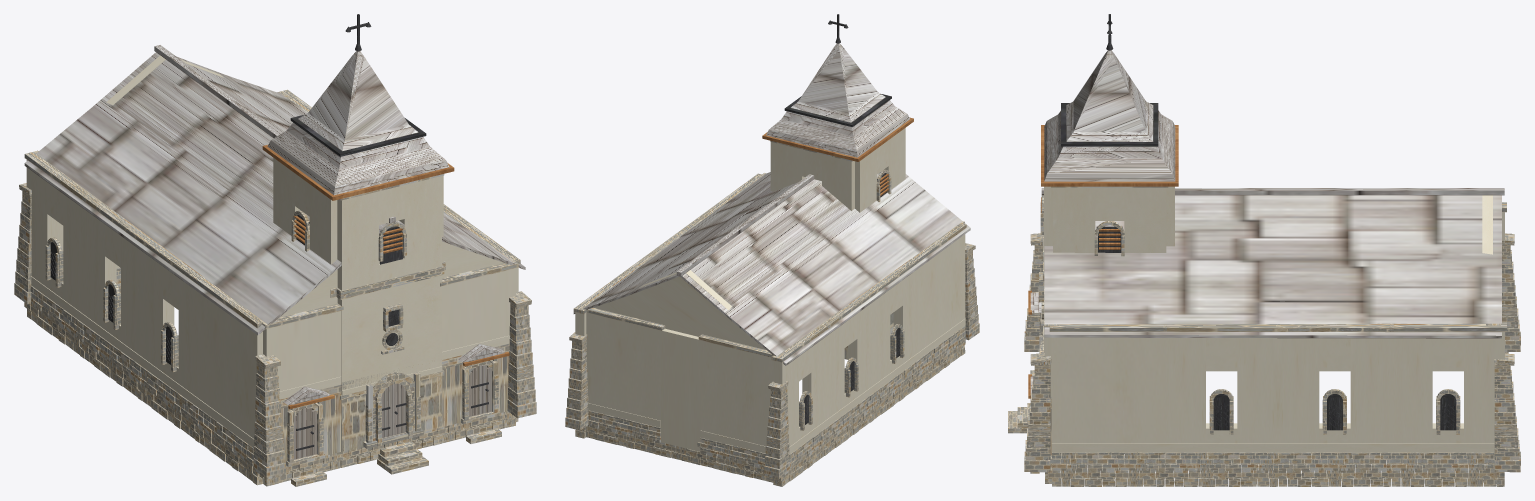
Rendered from tier1_church_delnice_v1.glb.
3 renders of one model, left to right at view 1: azimuth 30°, elevation 25°; view 2: azimuth 150°, elevation 25°; view 3: azimuth 270°, elevation 25°, orthographic. The views are drawn at different scales.
Visible parts, largest first — view 1: TC_Nave_Roof_Left, TC_Delnice_Flared_Spire, TC_Tower_Shaft_Front, TC_Tower_Belfry_Front, TC_Nave_Left_Bay_1, TC_Front_Right_Portal_Bay, TC_Nave_Left_Bay_3, TC_Nave_Left_Bay_2, TC_Nave_Left_Bay_4, TC_Front_Left_Portal_Bay, TC_Nave_Roof_Right, TC_Tower_Belfry_Left (+28 smaller); view 2: TC_Nave_Roof_Left, TC_Delnice_Flared_Spire, TC_Rear_Right_Bay, TC_Rear_Left_Bay, TC_Nave_Left_Bay_1, TC_Nave_Roof_Right, TC_Rear_Gable, TC_Nave_Left_Bay_2, TC_Nave_Left_Bay_3, TC_Nave_Left_Bay_4, TC_Rear_Centre_Infill, TC_Tower_Belfry_Rear (+16 smaller); view 3: TC_Nave_Roof_Right, TC_Nave_Right_Bay_1, TC_Nave_Right_Bay_3, TC_Nave_Right_Bay_2, TC_Nave_Right_Bay_4, TC_Delnice_Flared_Spire, TC_Tower_Belfry_Right, TC_FrontRight_Stone_Pilaster, TC_Nave_Ridge, TC_RearRight_Stone_Pilaster, TC_Foundation_Right_4, TC_Foundation_Right_1 (+12 smaller).
Boxes of the visible parts, left/top/right/bottom form: TC_Nave_Roof_Left: left=24, top=52, right=388, bottom=335; TC_Delnice_Flared_Spire: left=262, top=36, right=454, bottom=200; TC_Tower_Shaft_Front: left=336, top=270, right=444, bottom=400; TC_Tower_Belfry_Front: left=336, top=174, right=444, bottom=295; TC_Nave_Left_Bay_1: left=197, top=278, right=264, bottom=466; TC_Front_Right_Portal_Bay: left=440, top=261, right=518, bottom=427; TC_Nave_Left_Bay_3: left=82, top=194, right=147, bottom=384; TC_Nave_Left_Bay_2: left=140, top=236, right=205, bottom=426; TC_Nave_Left_Bay_4: left=24, top=150, right=90, bottom=341; TC_Front_Left_Portal_Bay: left=262, top=303, right=343, bottom=463; TC_Nave_Roof_Right: left=177, top=57, right=525, bottom=269; TC_Tower_Belfry_Left: left=273, top=158, right=337, bottom=293; TC_Nave_Roof_Left: left=680, top=173, right=970, bottom=365; TC_Delnice_Flared_Spire: left=762, top=31, right=913, bottom=161; TC_Rear_Right_Bay: left=586, top=308, right=665, bottom=442; TC_Rear_Left_Bay: left=697, top=334, right=785, bottom=467; TC_Nave_Left_Bay_1: left=913, top=223, right=966, bottom=372; TC_Nave_Roof_Right: left=573, top=172, right=797, bottom=313; TC_Rear_Gable: left=593, top=270, right=765, bottom=349; TC_Nave_Left_Bay_2: left=869, top=257, right=920, bottom=406; TC_Nave_Left_Bay_3: left=823, top=289, right=874, bottom=439; TC_Nave_Left_Bay_4: left=771, top=323, right=828, bottom=468; TC_Rear_Centre_Infill: left=661, top=328, right=700, bottom=451; TC_Tower_Belfry_Rear: left=770, top=140, right=854, bottom=210; TC_Nave_Roof_Right: left=1044, top=195, right=1501, bottom=338; TC_Nave_Right_Bay_1: left=1049, top=324, right=1166, bottom=470; TC_Nave_Right_Bay_3: left=1275, top=323, right=1393, bottom=470; TC_Nave_Right_Bay_2: left=1161, top=324, right=1280, bottom=470; TC_Nave_Right_Bay_4: left=1388, top=321, right=1506, bottom=470; TC_Delnice_Flared_Spire: left=1041, top=35, right=1178, bottom=186; TC_Tower_Belfry_Right: left=1051, top=186, right=1168, bottom=252; TC_FrontRight_Stone_Pilaster: left=1024, top=353, right=1051, bottom=472; TC_Nave_Ridge: left=1041, top=188, right=1504, bottom=195; TC_RearRight_Stone_Pilaster: left=1494, top=353, right=1520, bottom=472; TC_Foundation_Right_4: left=1387, top=465, right=1504, bottom=486; TC_Foundation_Right_1: left=1048, top=465, right=1164, bottom=486.
Size of the model in its own units: 10.81 by 15.97 by 18.1.
11 materials, 11 textured.
